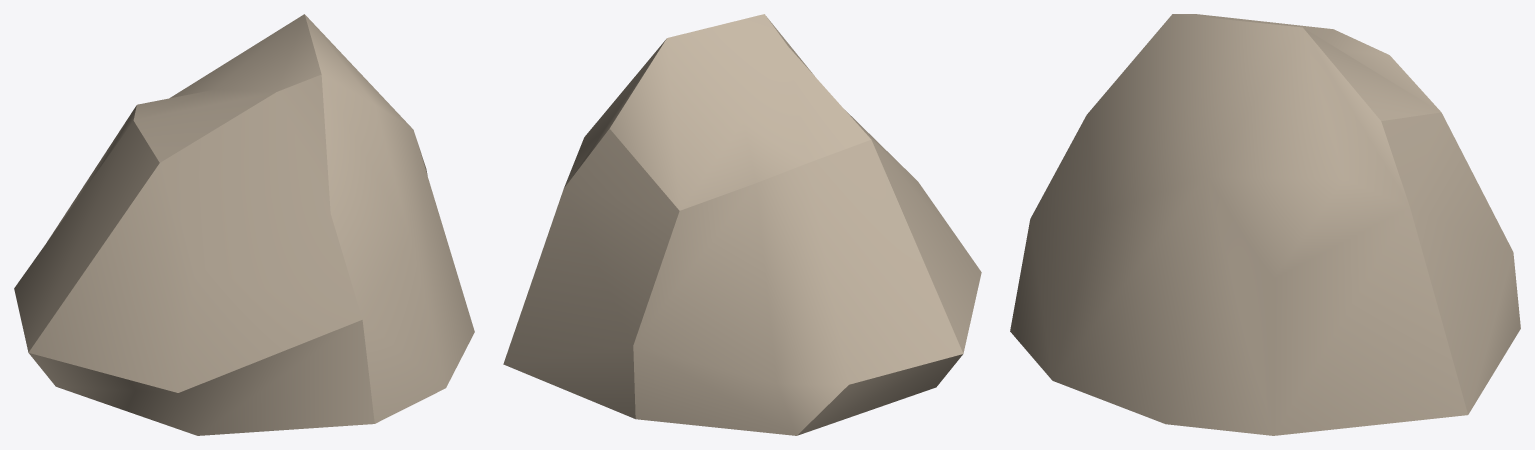
The model's file is Mid Rock 01.FBX.
The picture shows the model from 3 angles, left to right: view 1: azimuth 30°, elevation 25°; view 2: azimuth 150°, elevation 25°; view 3: azimuth 270°, elevation 25°; orthographic projection. The views are drawn at different scales.
Visible parts, largest first — view 1: Mid Rock 01; view 2: Mid Rock 01; view 3: Mid Rock 01.
Boxes of the visible parts, <box> form: Mid Rock 01: <box>14,14,474,435</box>; Mid Rock 01: <box>503,14,981,435</box>; Mid Rock 01: <box>1010,14,1520,435</box>.
Bounding box in the file's own units: 141 × 96.25 × 132.
Materials: 1 (1 with a texture image).
